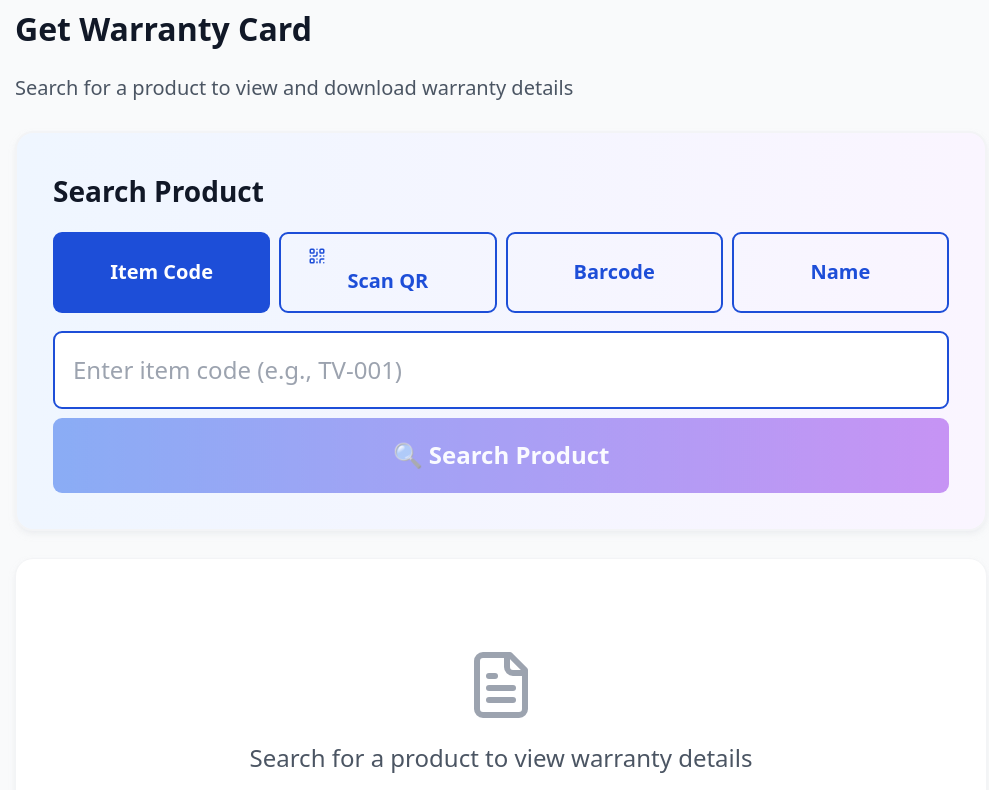
GetWarranty - Page Functional Tests › Search Functionality › should switch search methods
Click the button "Barcode". click: (614, 272)
box: [506,232,723,313]
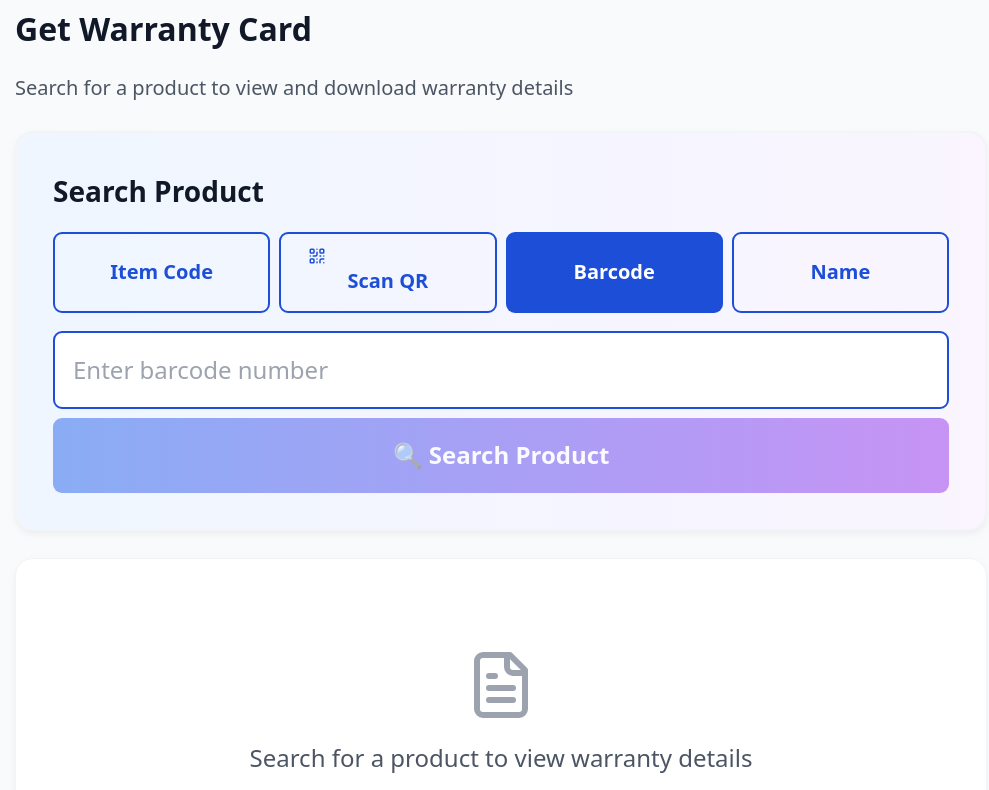
expect the field with placeholder "Enter barcode number" is shown: met, box [53,331,949,409]
